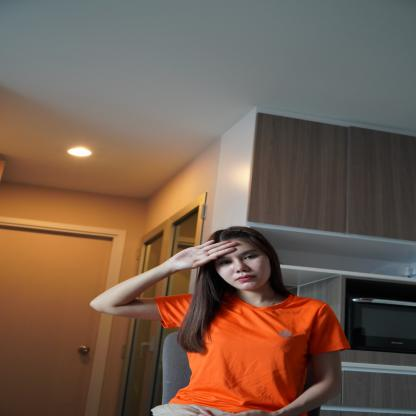Sick: (159, 236, 244, 272)
